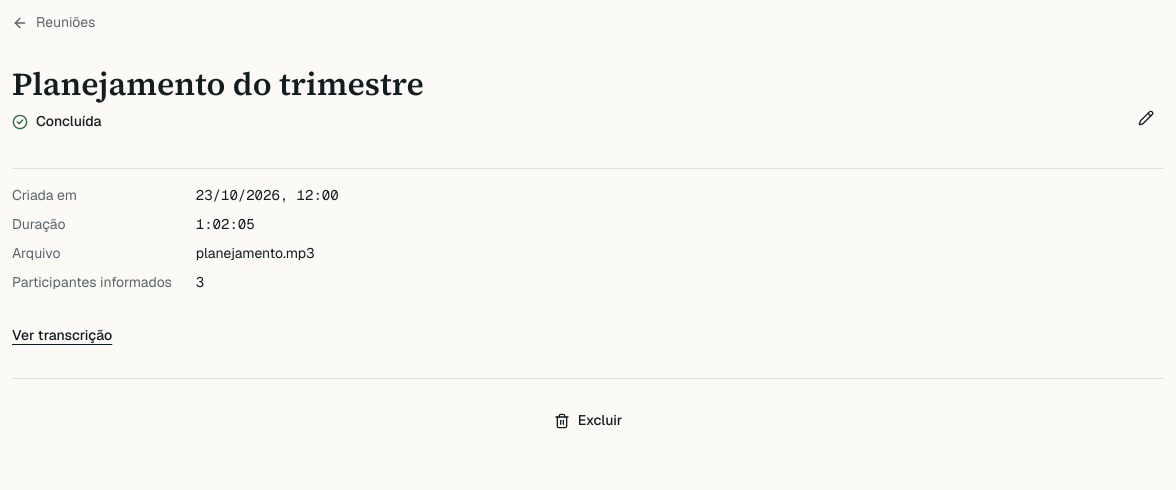
edita o título (meetings 41)
Click the button named "Editar título": (1146, 118) [1128,100,1164,136]
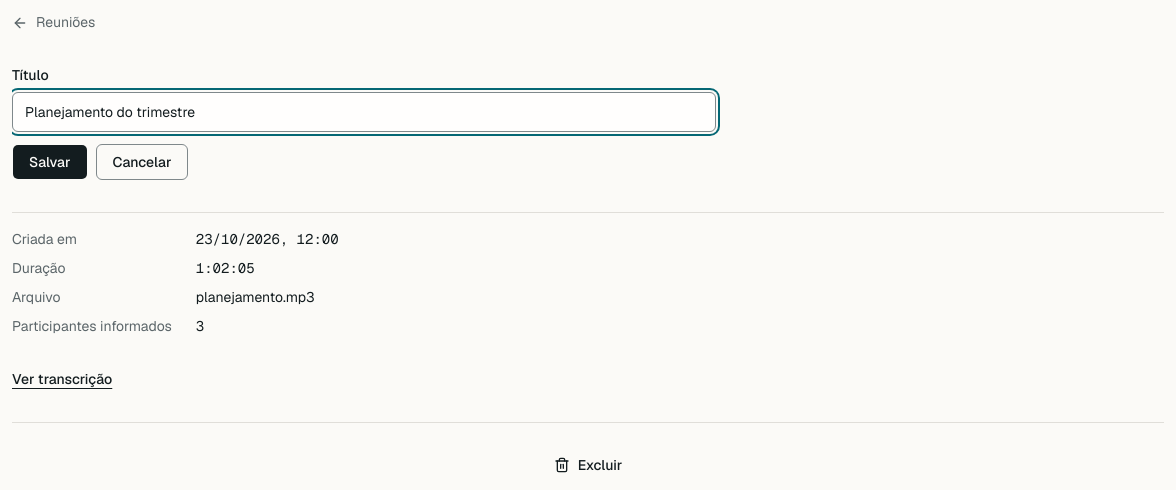
Replace the text in the field labelled "Título" with "Novo título": (364, 112) [12,92,716,132]
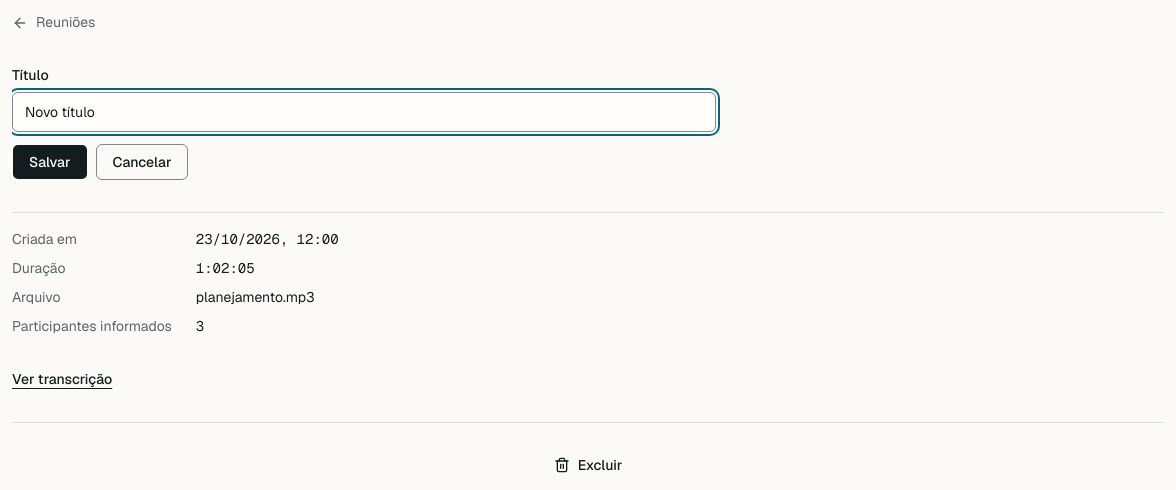
Click the button "Salvar": (50, 162) [12,144,88,180]
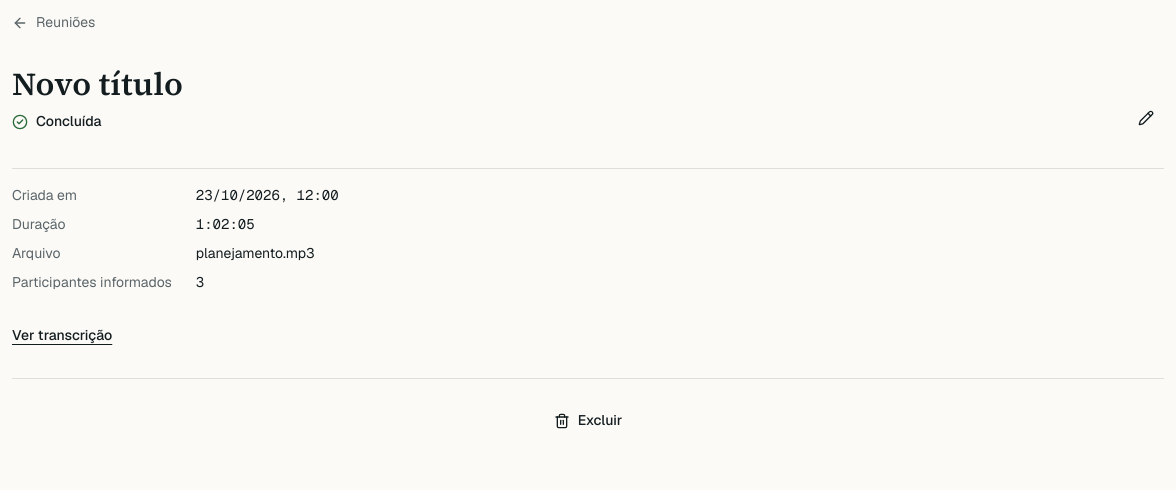
Expected: the heading "Novo título" is shown, [12,65,183,103]
